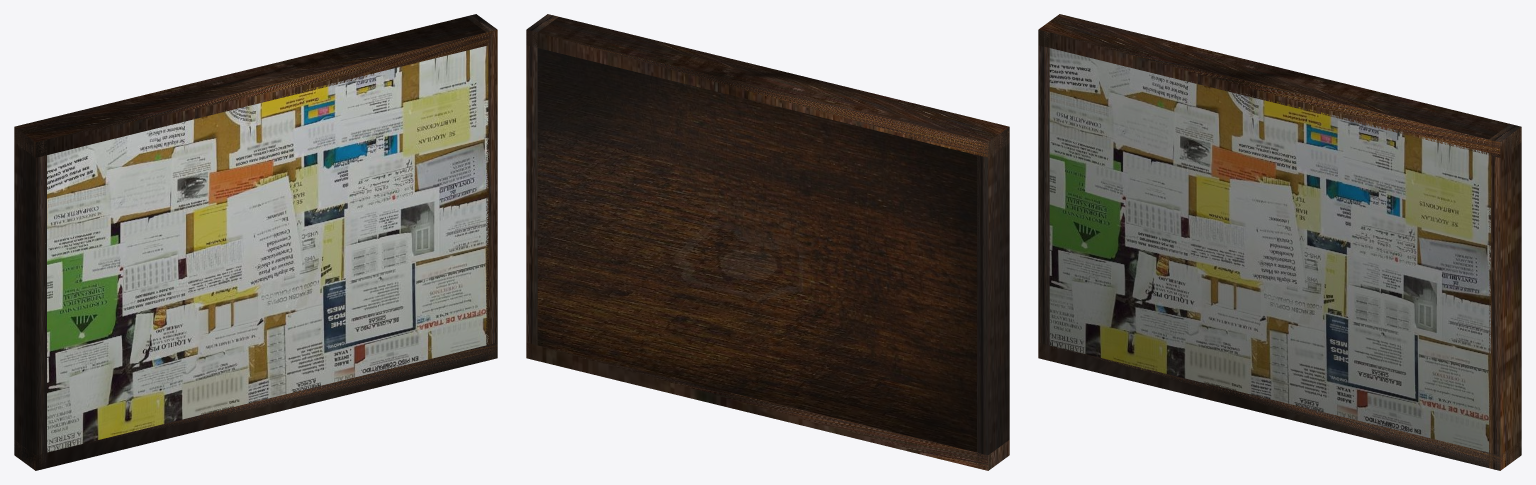
Rendered from taulell_anuncis.fbx.
The picture shows the model from 3 angles, left to right: view 1: azimuth 30°, elevation 25°; view 2: azimuth 150°, elevation 25°; view 3: azimuth 330°, elevation 25°; orthographic projection.
Parts seen in each view (by area): view 1: Cube, Cube_002; view 2: Cube, Cube_002; view 3: Cube, Cube_002.
Boxes of the visible parts, box(x1,y1,x2,y2) form: Cube: box(47, 45, 488, 452); Cube_002: box(14, 14, 497, 470); Cube: box(536, 48, 978, 452); Cube_002: box(526, 14, 1009, 470); Cube: box(1049, 48, 1490, 453); Cube_002: box(1038, 14, 1521, 470).
Bounding box in the file's own units: 6.25 × 4.25 × 0.5.
Materials: 4 (3 with a texture image).
